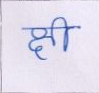i_matra: (54, 16, 71, 52)
